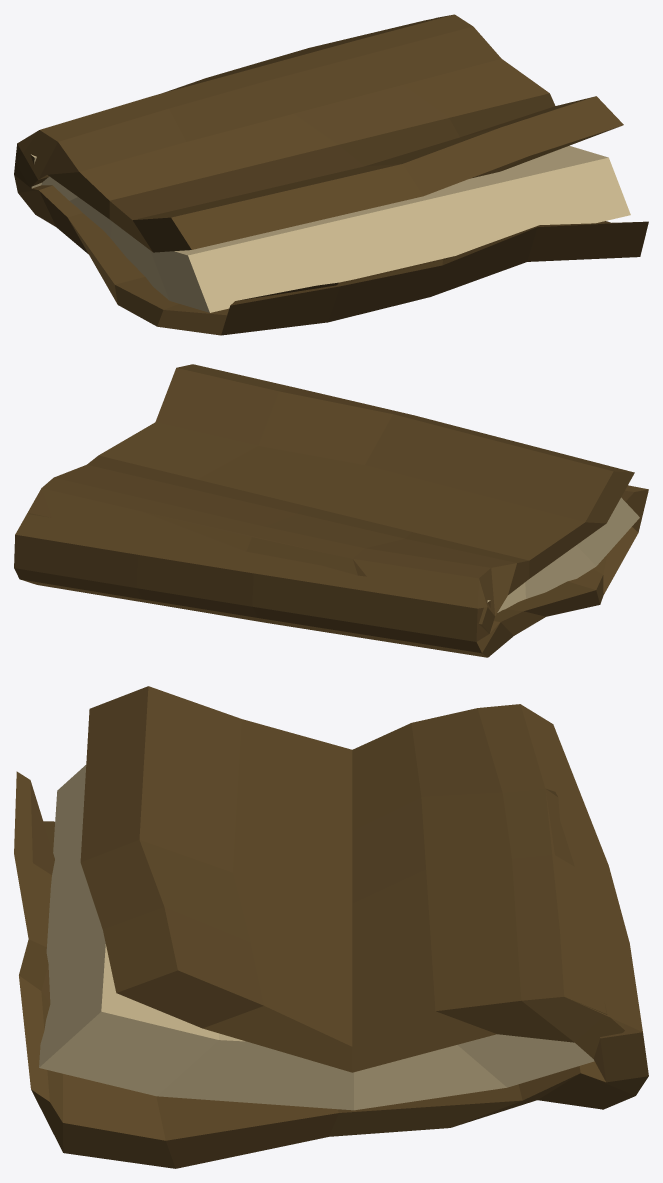
The model's file is Journal.fbx.
The picture shows the model from 3 angles, top to bottom: view 1: azimuth 30°, elevation 25°; view 2: azimuth 150°, elevation 25°; view 3: azimuth 270°, elevation 25°; orthographic projection. The views are drawn at different scales.
Parts seen in each view (by area): view 1: Cube.002; view 2: Cube.002; view 3: Cube.002.
Boxes of the visible parts, x1,y1,x2,y2 form: Cube.002: (14, 14, 648, 335); Cube.002: (14, 364, 648, 657); Cube.002: (14, 686, 648, 1168).
Bounding box in the file's own units: 219 × 65 × 184.
